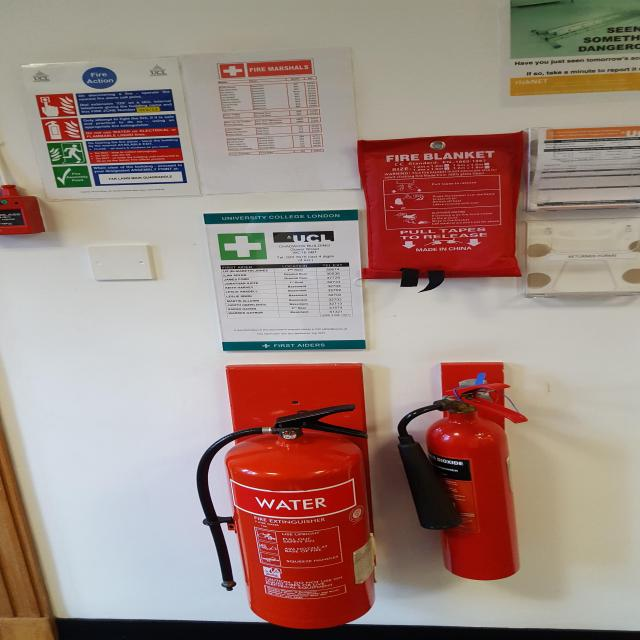fire_extinguisher: (193, 404, 382, 632), (392, 380, 534, 584)
